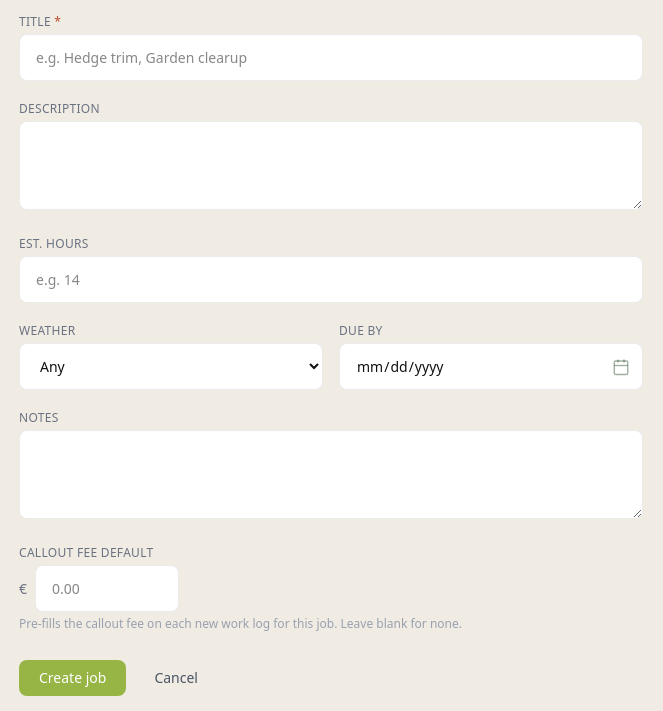
JobForm — Add mode › requires title — shows error on submit
(page scrolled)
Click the button "Create job" at [73, 678], box [19, 660, 126, 696]
(page scrolled)
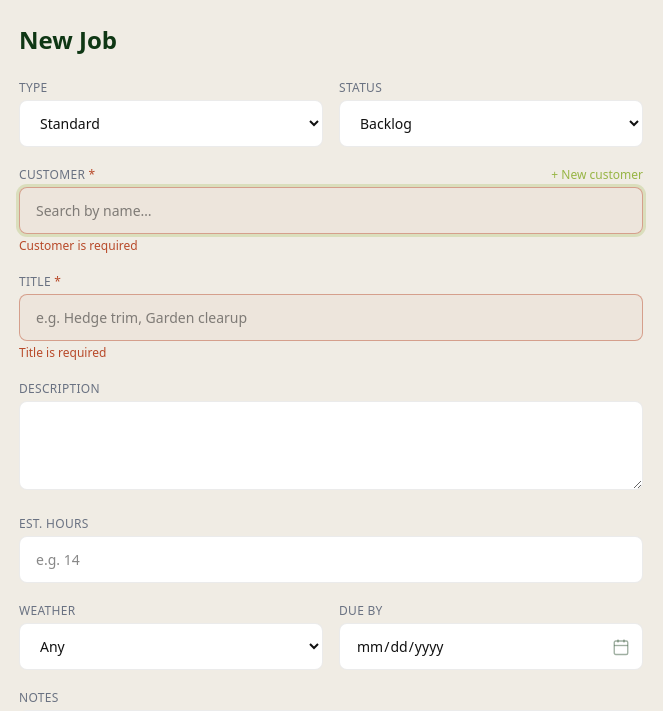
Now the text "Title is required" is shown, box [19, 344, 106, 361]
